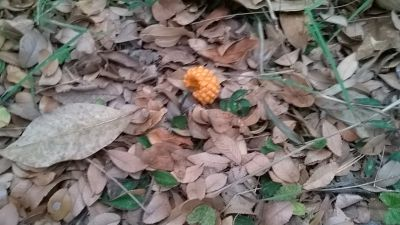eggs: (183, 65, 220, 104)
